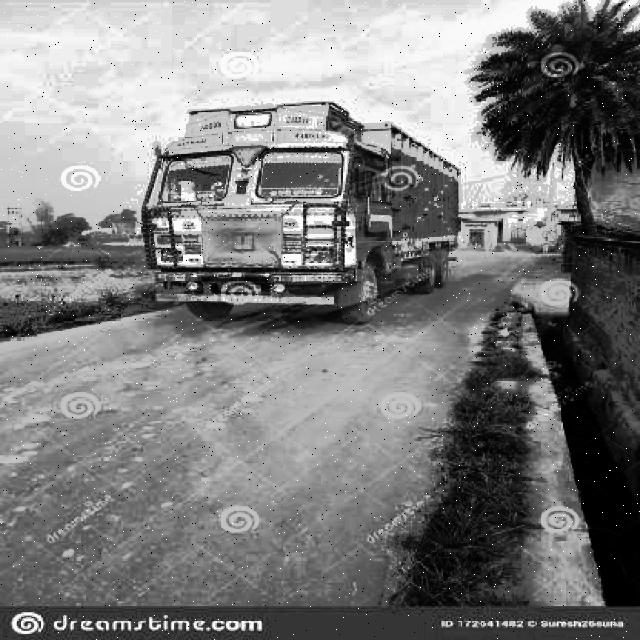HCV: (161, 106, 457, 312)
